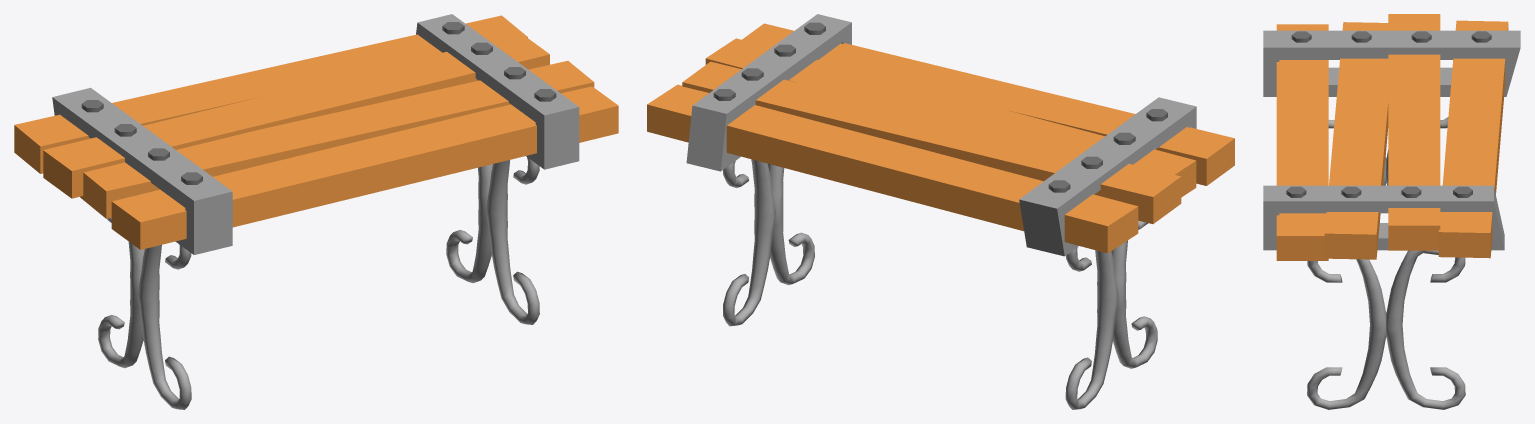
Rendered from Table.fbx.
3 views of the same model, side by side, from view 1: azimuth 30°, elevation 25°; view 2: azimuth 150°, elevation 25°; view 3: azimuth 270°, elevation 25° (orthographic). The views are drawn at different scales.
Visible parts, largest first — view 1: Wood, Leg1, Leg; view 2: Wood, Leg1, Leg; view 3: Wood, Leg, Leg1.
Boxes of the visible parts, bbox=[...] form: Wood: bbox=[14, 15, 618, 249]; Leg1: bbox=[52, 87, 232, 409]; Leg: bbox=[416, 14, 579, 324]; Wood: bbox=[647, 23, 1234, 253]; Leg1: bbox=[1019, 97, 1196, 409]; Leg: bbox=[686, 14, 851, 326]; Wood: bbox=[1276, 14, 1508, 260]; Leg: bbox=[1263, 185, 1504, 409]; Leg1: bbox=[1263, 30, 1520, 254].
Bounding box in the file's own units: 189 × 89.66 × 94.68.
